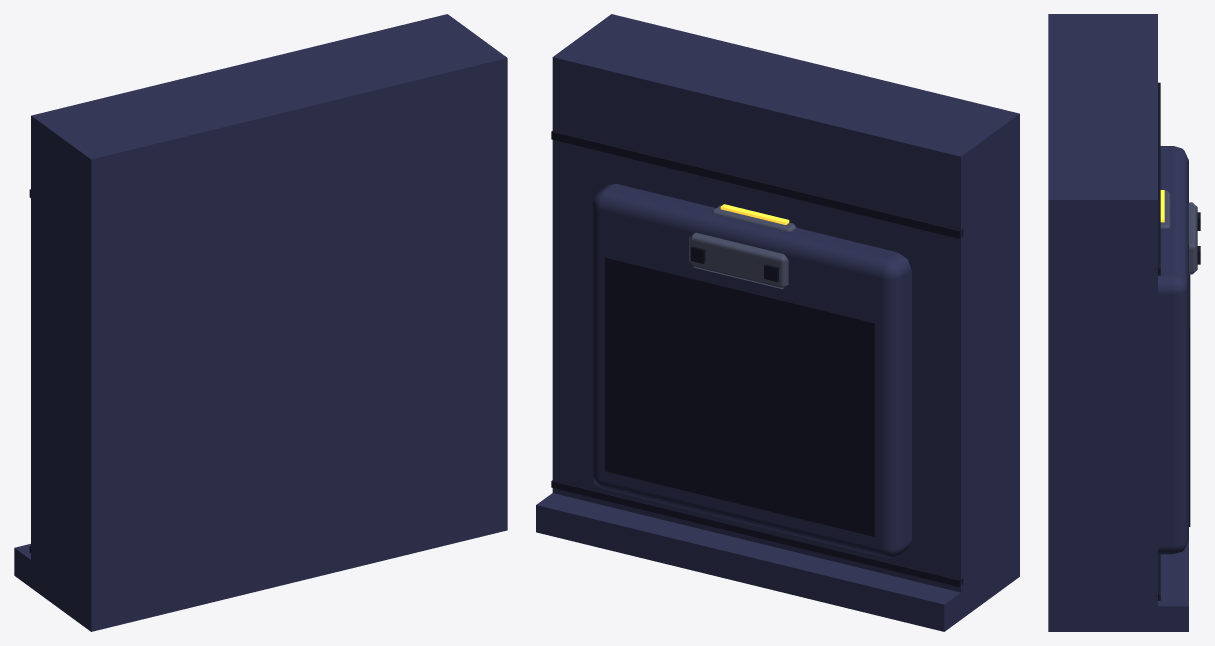
File: hull.upper.straight.l1.000.s4.glb
3 renders of one model, left to right at view 1: azimuth 30°, elevation 25°; view 2: azimuth 150°, elevation 25°; view 3: azimuth 270°, elevation 25°, orthographic. The views are drawn at different scales.
Parts seen in each view (by area): view 1: hull.upper.straight.l1.000.s4; view 2: hull.upper.straight.l1.000.s4; view 3: hull.upper.straight.l1.000.s4.
Boxes of the visible parts, x1=… form: hull.upper.straight.l1.000.s4: x1=14, y1=14, x2=507, y2=631; hull.upper.straight.l1.000.s4: x1=536, y1=14, x2=1019, y2=631; hull.upper.straight.l1.000.s4: x1=1048, y1=14, x2=1200, y2=631.
Size of the model in its own units: 1 by 1.08 by 0.347.
